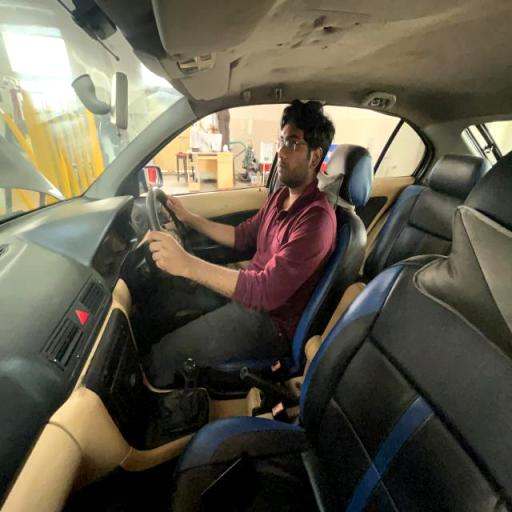Reaching_behind: (137, 98, 336, 360)
